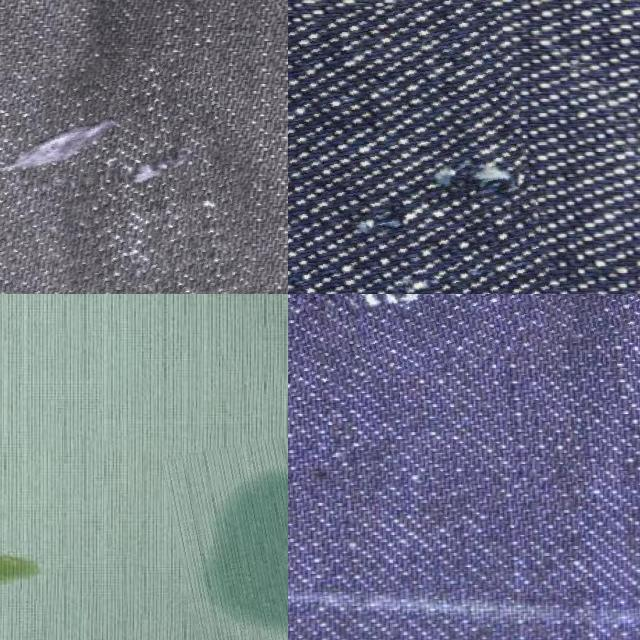Thread_other: (170, 428, 288, 640), (0, 516, 62, 624)
stains: (288, 5, 565, 294), (0, 58, 249, 294), (288, 294, 640, 400)
